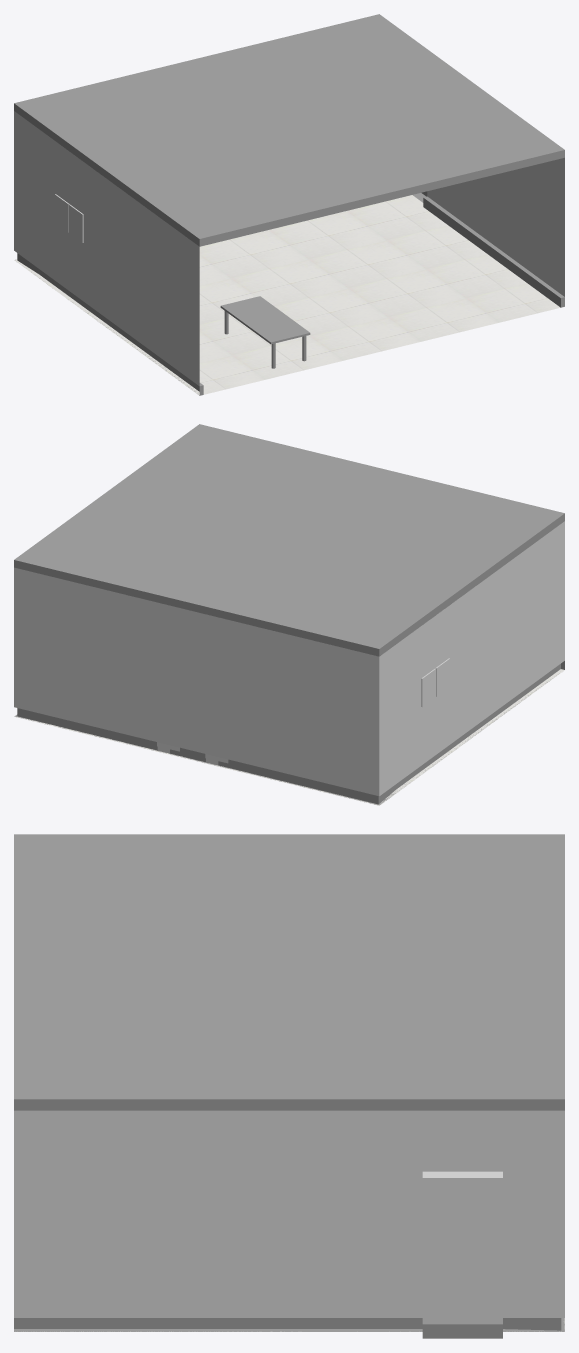
Rendered from HOSPIFINAL.fbx.
3 renders of one model, top to bottom at view 1: azimuth 30°, elevation 25°; view 2: azimuth 150°, elevation 25°; view 3: azimuth 270°, elevation 25°, orthographic. The views are drawn at different scales.
Visible parts, largest first — view 1: polySurface2, polySurface52, polySurface53, pCube21; view 2: polySurface53, polySurface2, polySurface52; view 3: polySurface2, polySurface53.
Part boxes in pixels (x1,y1,x2,y2): polySurface2: (14,14,564,246); polySurface52: (14,195,560,395); polySurface53: (14,111,564,395); pCube21: (220,296,310,368); polySurface53: (14,521,564,805); polySurface2: (14,424,564,656); polySurface52: (14,669,564,805); polySurface2: (14,834,564,1110); polySurface53: (14,1110,564,1338).
Bounding box in the file's own units: 205 × 84.85 × 175.
